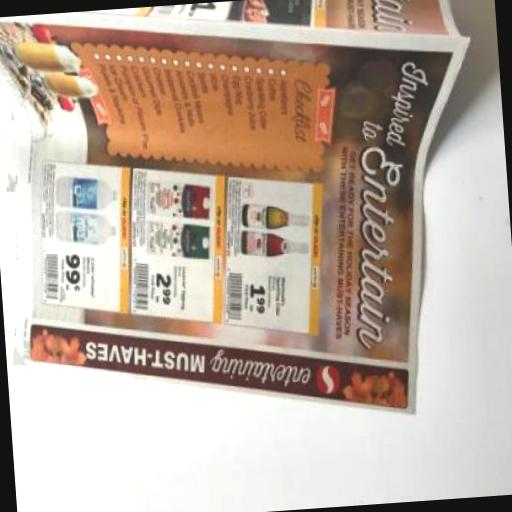paper: (0, 0, 495, 443)
